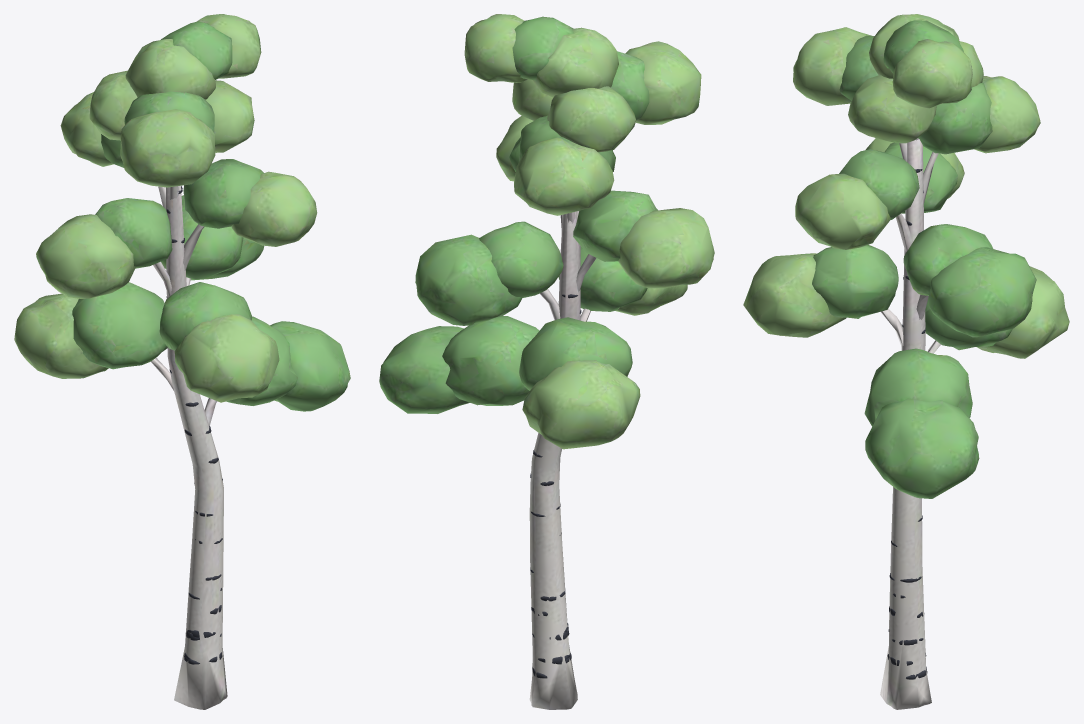
File: birch-tree.glb
3 renders of one model, left to right at view 1: azimuth 30°, elevation 25°; view 2: azimuth 150°, elevation 25°; view 3: azimuth 270°, elevation 25°, orthographic. The views are drawn at different scales.
Parts seen in each view (by area): view 1: birch-tree_body, birch-tree_bark_marks; view 2: birch-tree_body, birch-tree_bark_marks; view 3: birch-tree_body, birch-tree_bark_marks.
Part boxes in pixels (x1,y1,x2,y2): birch-tree_body: (14, 14, 350, 709); birch-tree_bark_marks: (166, 186, 222, 664); birch-tree_body: (379, 14, 714, 709); birch-tree_bark_marks: (530, 294, 581, 678); birch-tree_body: (743, 14, 1069, 709); birch-tree_bark_marks: (887, 169, 927, 679).
Bounding box in the file's own units: 3.18 × 6.64 × 2.91.
Materials: 2 (1 with a texture image).
